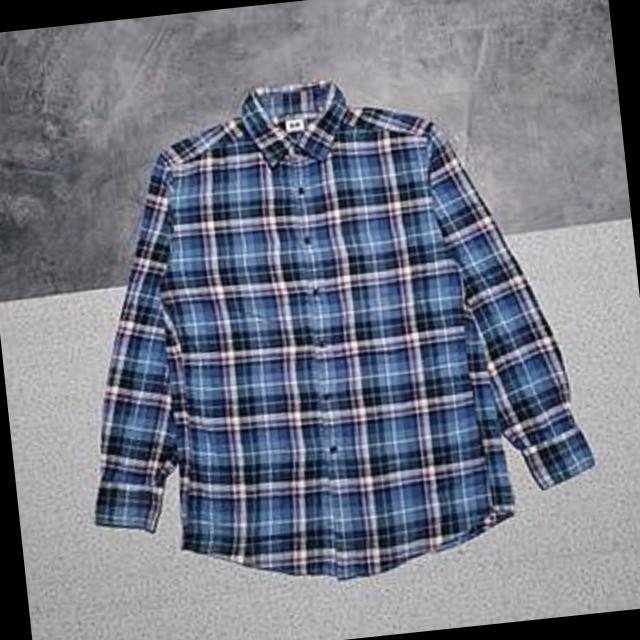SHIRT: (27, 40, 640, 613)
